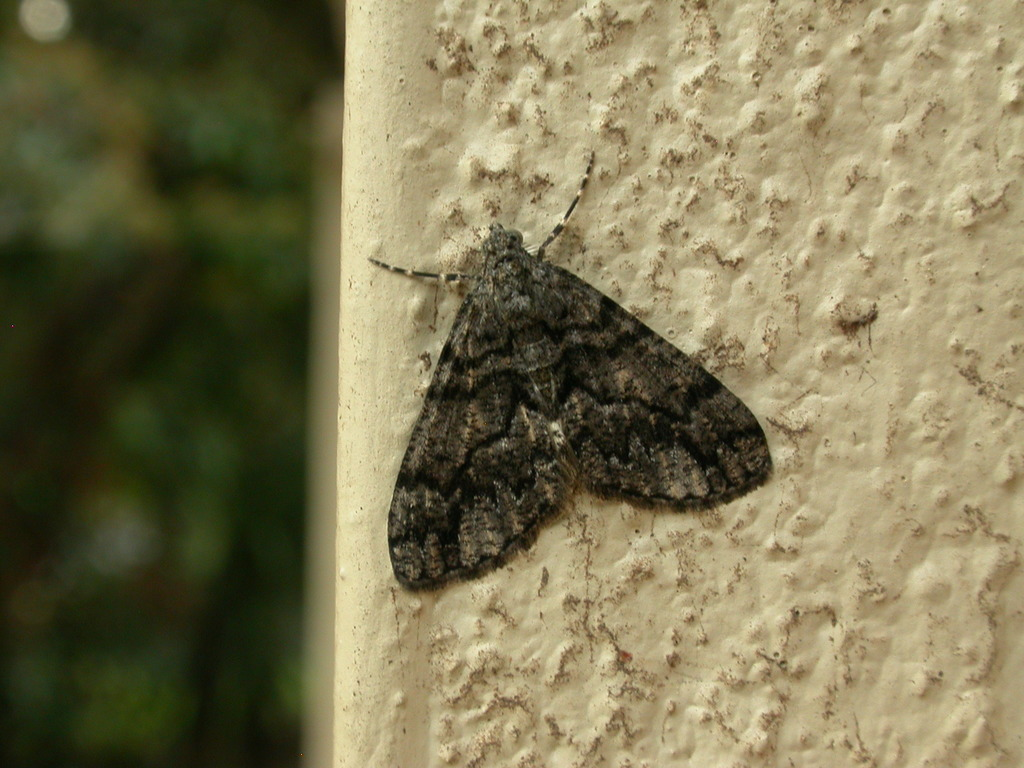Butterfly: (350, 202, 797, 586)
